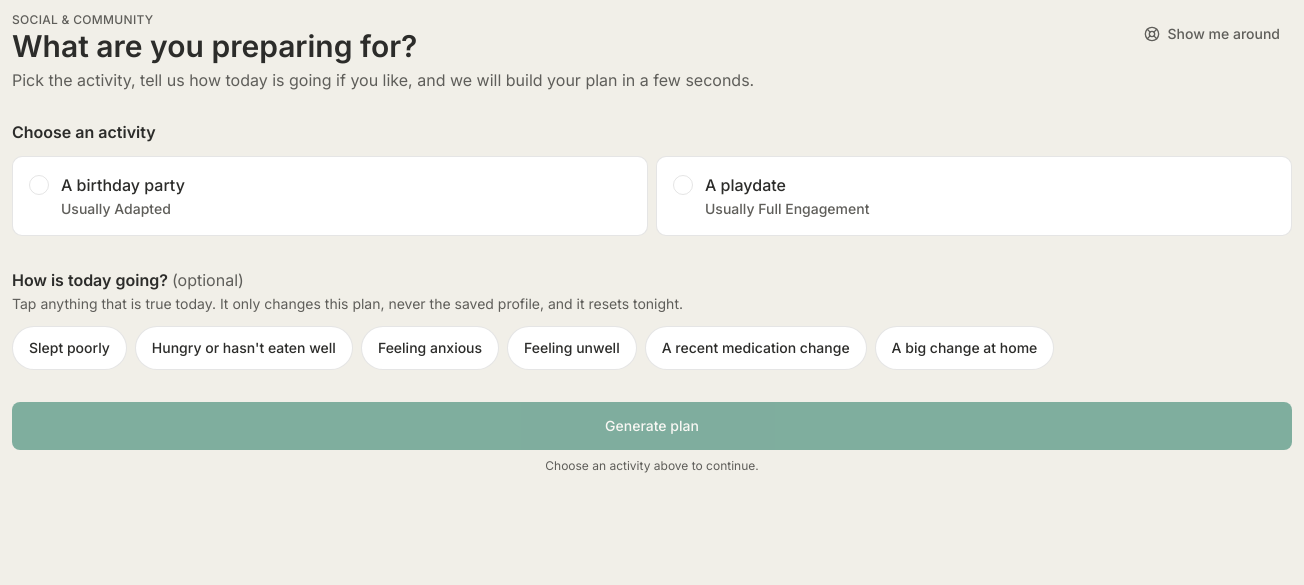
Test: PlanScreen duplicate-plans guard › shows the 'already prepared' steer (not the Generate button) when the picked activity is already prepared
Expected: the text "A birthday party" is shown, x1=61 y1=173 x2=185 y2=197
Expected: the button "open your existing plan" is not shown
Click the button "A birthday party Usually Adapted".
click(123, 185)  # box x1=12 y1=156 x2=648 y2=236
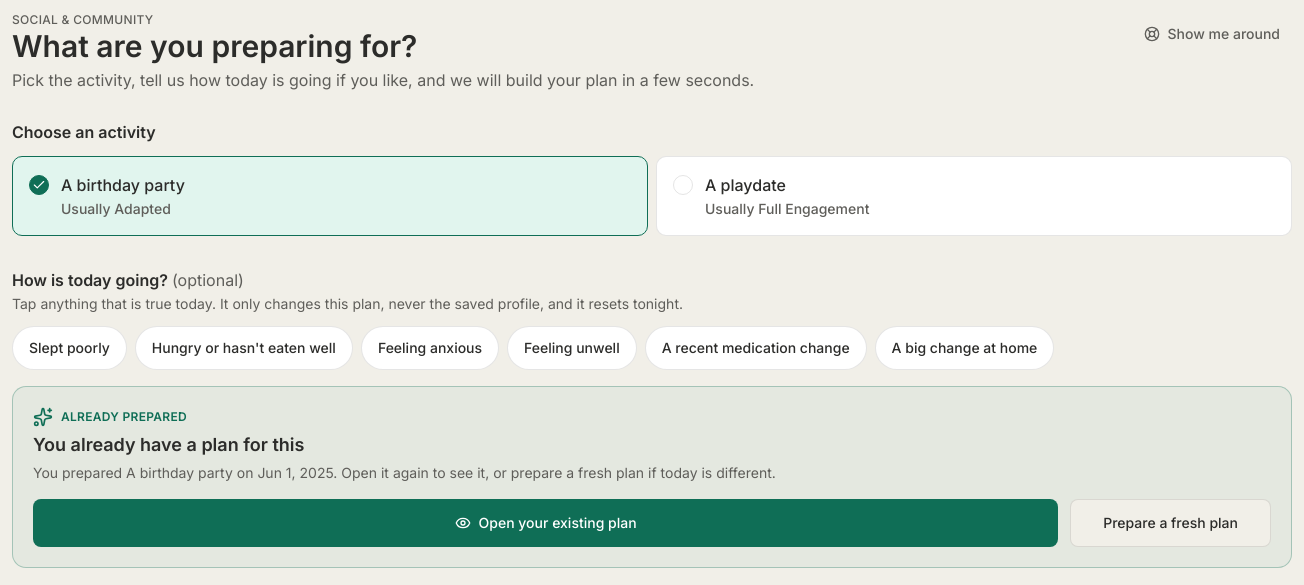
Expected: the heading "You already have a plan for this" is shown, x1=33 y1=434 x2=304 y2=455
Expected: the button "Open your existing plan" is shown, x1=33 y1=499 x2=1058 y2=547
Expected: the button "Prepare a fresh plan" is shown, x1=1070 y1=499 x2=1271 y2=547
